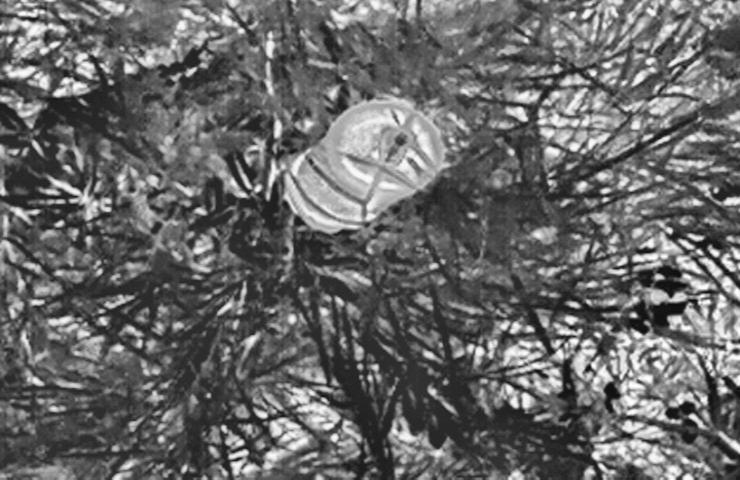landmines: (278, 91, 450, 244)
